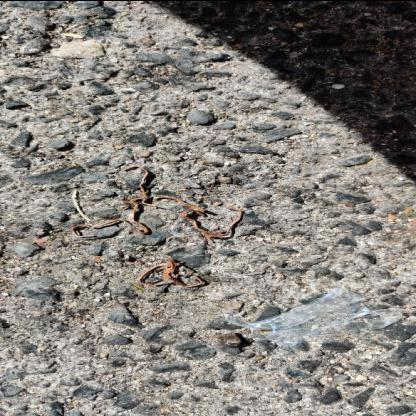Other litter: (179, 206, 241, 242), (138, 257, 202, 286), (142, 194, 206, 211), (72, 218, 132, 236), (122, 165, 148, 200), (123, 200, 149, 233)
Plastic bag - wrapper: (223, 287, 402, 345)
